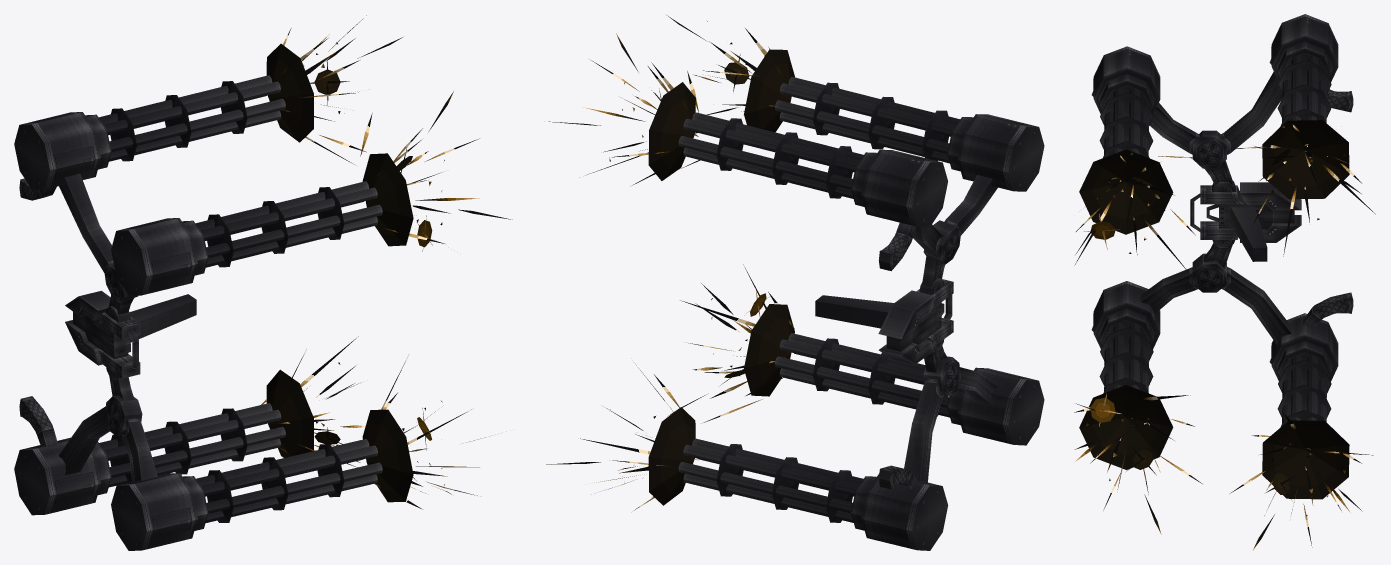
3 renders of one model, left to right at view 1: azimuth 30°, elevation 25°; view 2: azimuth 150°, elevation 25°; view 3: azimuth 270°, elevation 25°, orthographic. The views are drawn at different scales.
Parts seen in each view (by area): view 1: acce1644; view 2: acce1644; view 3: acce1644.
Boxes of the visible parts, x1,y1,x2,y2 form: acce1644: (14,15,512,550); acce1644: (546,15,1044,550); acce1644: (1074,14,1375,549).
Size of the model in its own units: 2.2 by 2.6 by 1.76.
2 materials, 2 textured.
